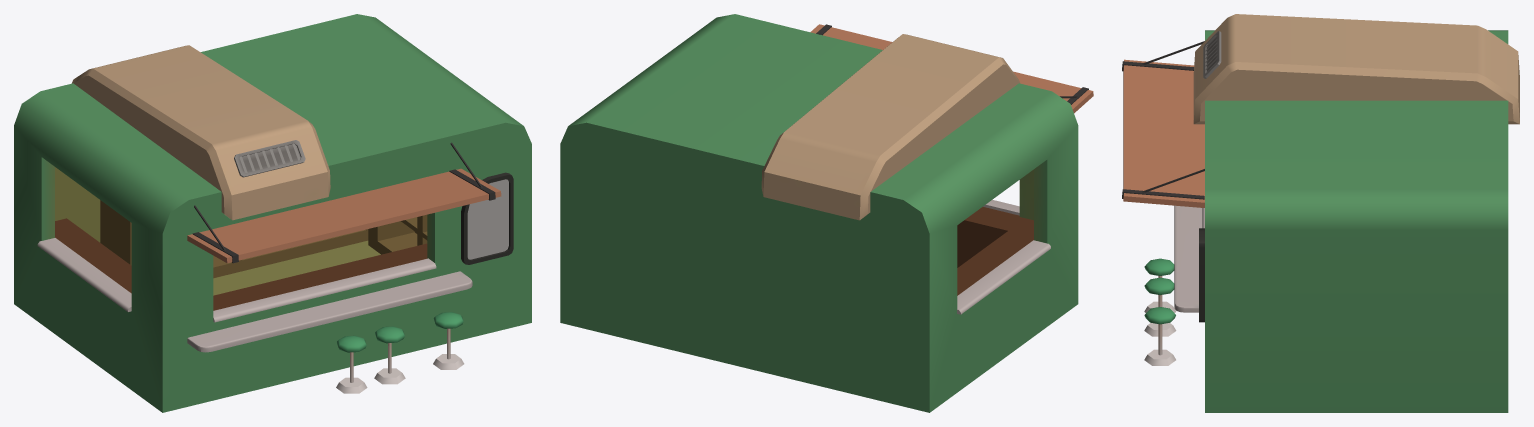
File: Foodstand_02.fbx
The picture shows the model from 3 angles, left to right: view 1: azimuth 30°, elevation 25°; view 2: azimuth 150°, elevation 25°; view 3: azimuth 270°, elevation 25°; orthographic projection. The views are drawn at different scales.
Visible parts, largest first — view 1: Foodstand_02; view 2: Foodstand_02; view 3: Foodstand_02.
Boxes of the visible parts, bbox=[...] form: Foodstand_02: bbox=[14, 14, 531, 412]; Foodstand_02: bbox=[560, 14, 1093, 412]; Foodstand_02: bbox=[1122, 14, 1519, 412].
Size of the model in its own units: 16.69 by 10.36 by 15.11.
Materials: 1 (1 with a texture image).
